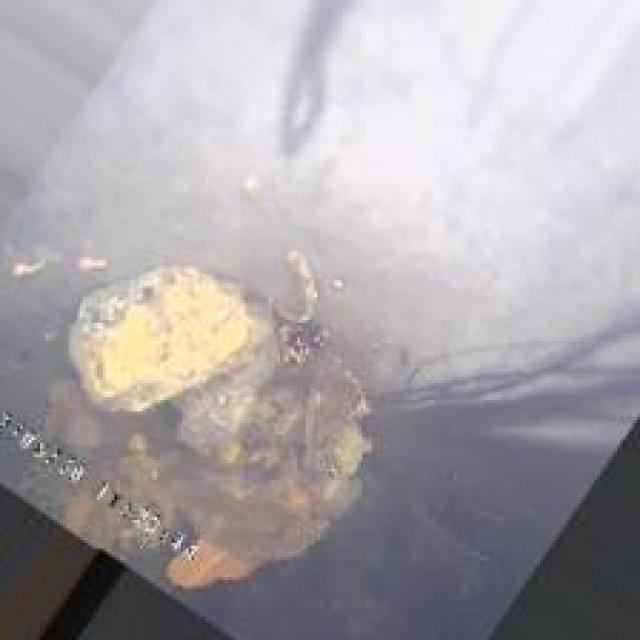stone: (52, 263, 374, 480)
